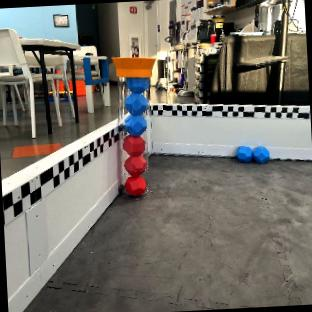V5_BLUE: (236, 146, 269, 162), (125, 91, 147, 113), (123, 114, 146, 133), (126, 75, 148, 90)
V5_RED: (123, 134, 145, 155), (123, 155, 146, 175), (125, 174, 146, 194), (74, 80, 84, 95)
